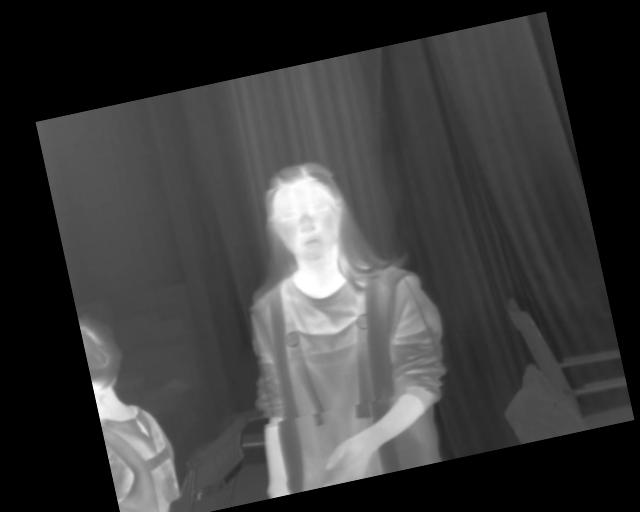face: (257, 156, 354, 269)
